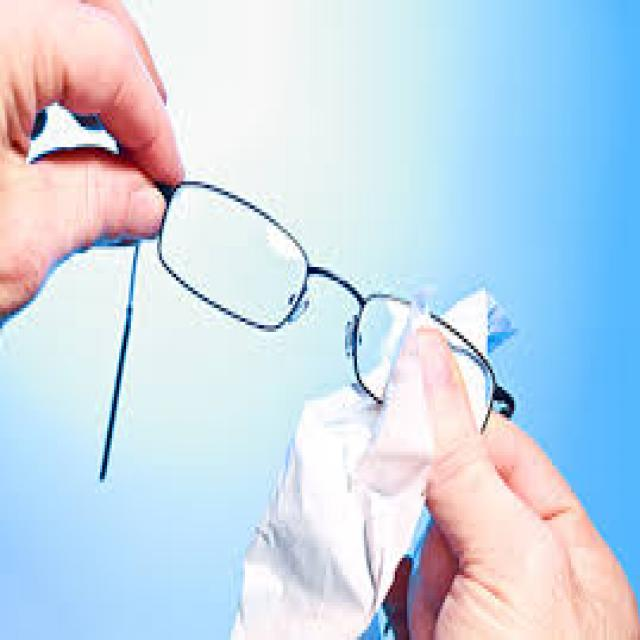glasses: (80, 156, 531, 612)
